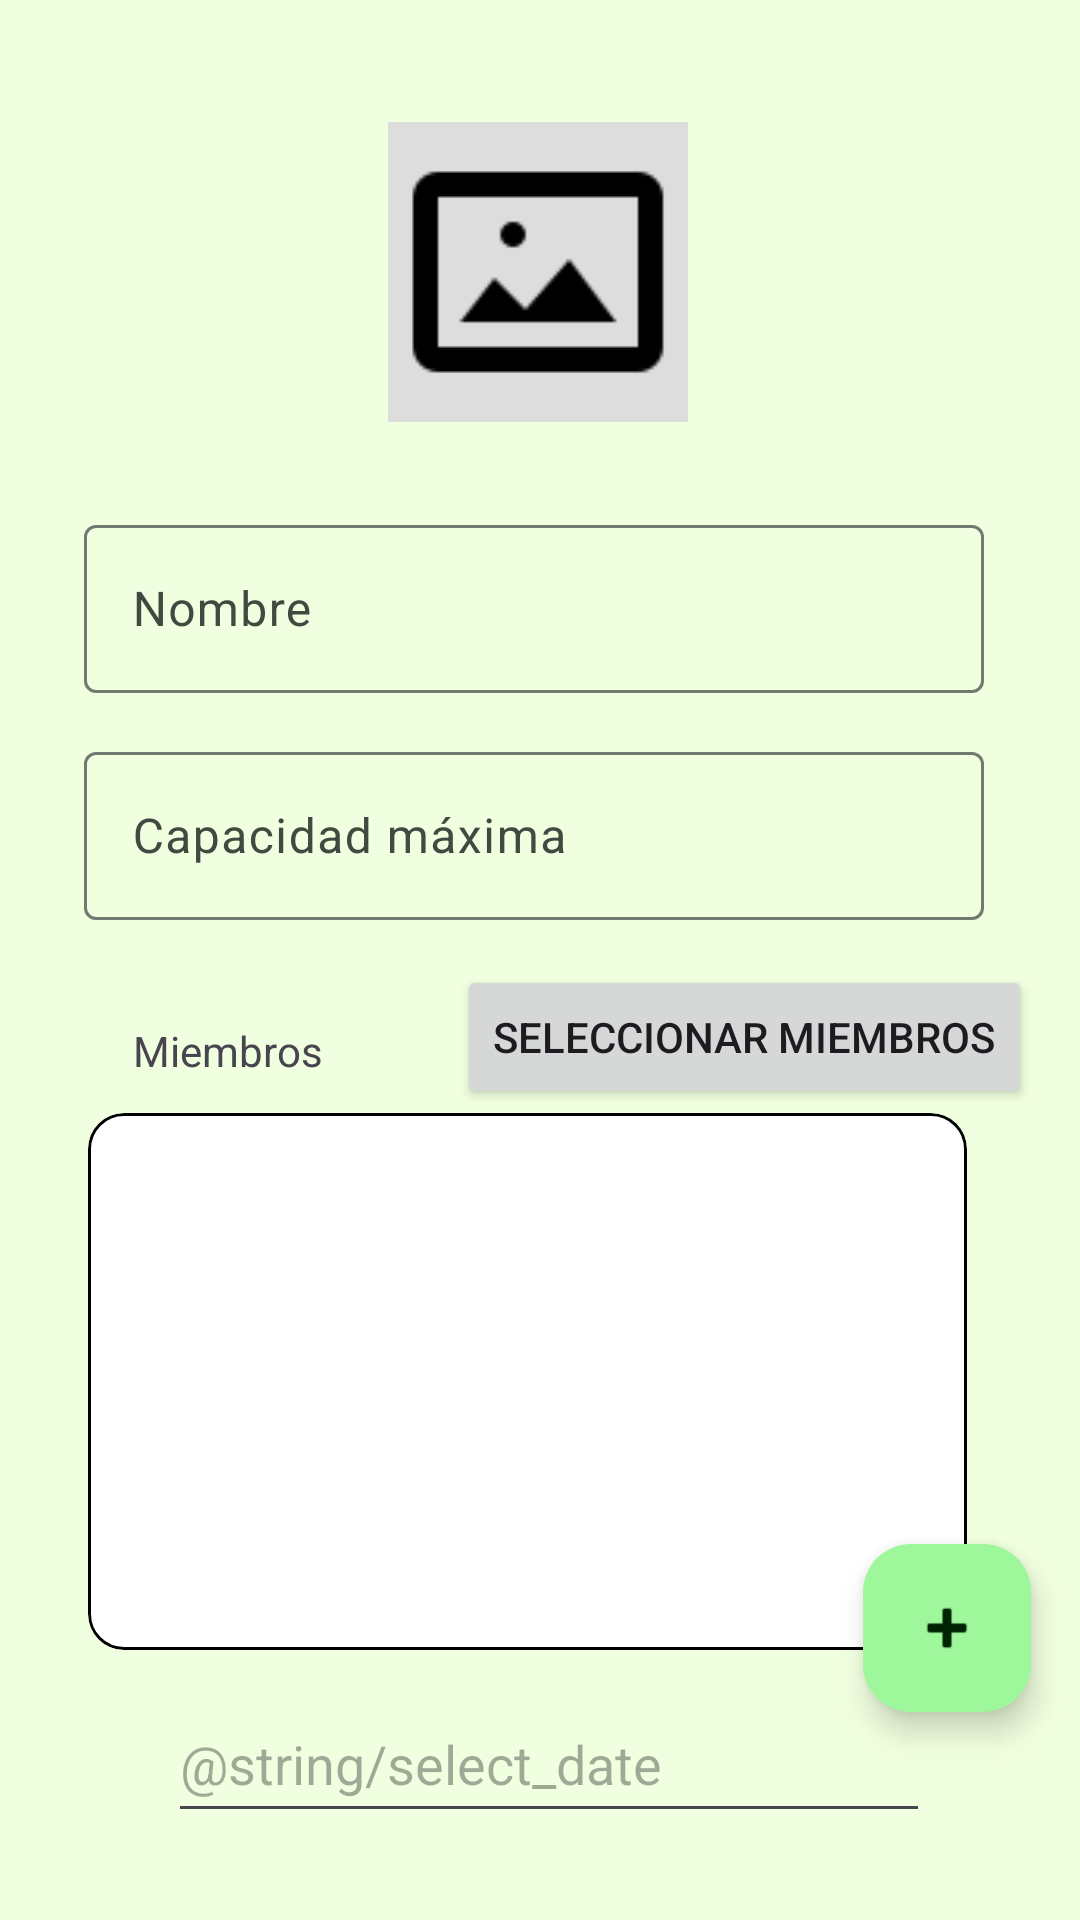

Icons on this 1080px x 1920px Android screen, each with the point to tap as (x=x, y=y):
add: (x=947, y=1628)
